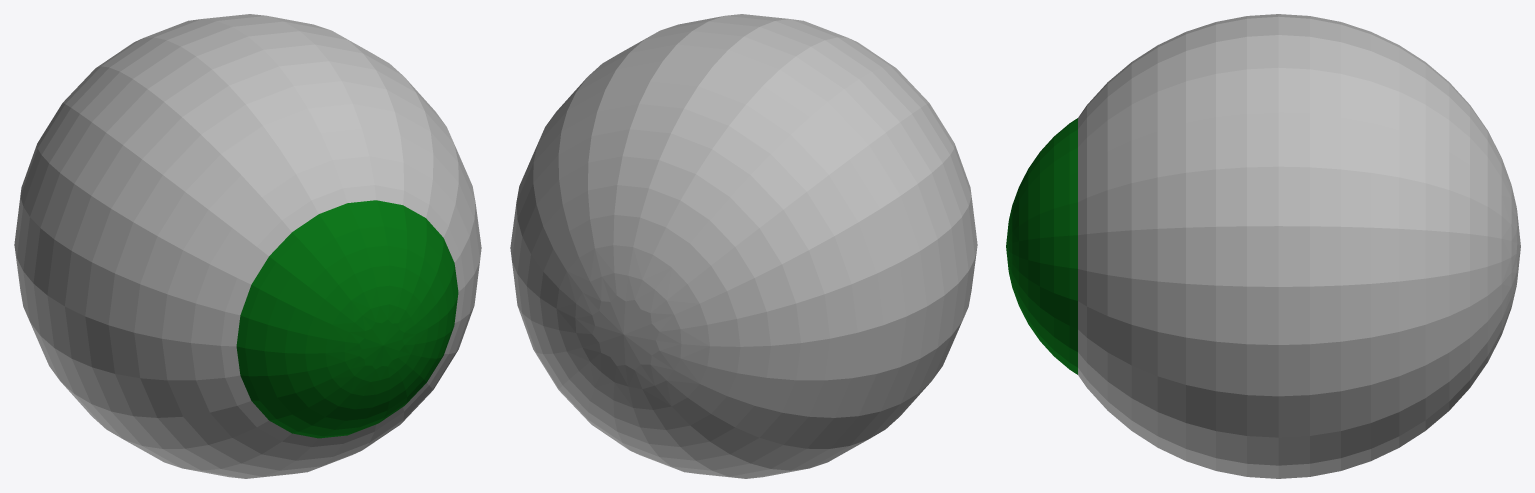
The model's file is eyeball.dae.
3 views of the same model, side by side, from view 1: azimuth 30°, elevation 25°; view 2: azimuth 150°, elevation 25°; view 3: azimuth 270°, elevation 25° (orthographic).
Parts seen in each view (by area): view 1: Sphere_005, Sphere_006; view 2: Sphere_005; view 3: Sphere_005, Sphere_006.
Part boxes in pixels (x1,y1,x2,y2): Sphere_005: [14, 14, 481, 478]; Sphere_006: [236, 200, 458, 438]; Sphere_005: [510, 14, 977, 478]; Sphere_005: [1078, 14, 1520, 478]; Sphere_006: [1006, 118, 1077, 374].
Size of the model in its own units: 0.4755 by 0.5247 by 0.4756.
